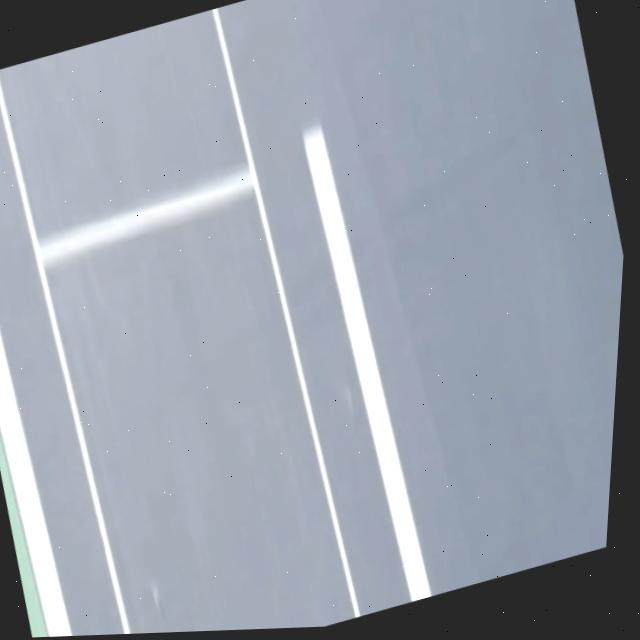center: (304, 125, 432, 601)
right: (0, 328, 72, 637)
